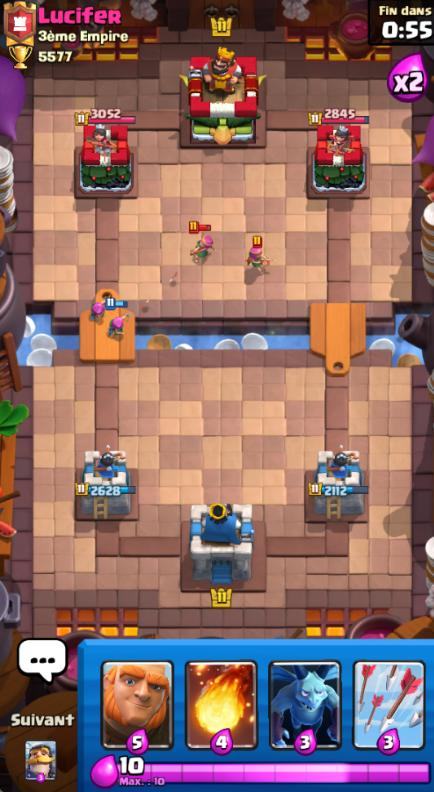archere: (245, 246, 278, 274), (187, 237, 220, 264), (107, 315, 132, 341), (87, 300, 107, 323)
